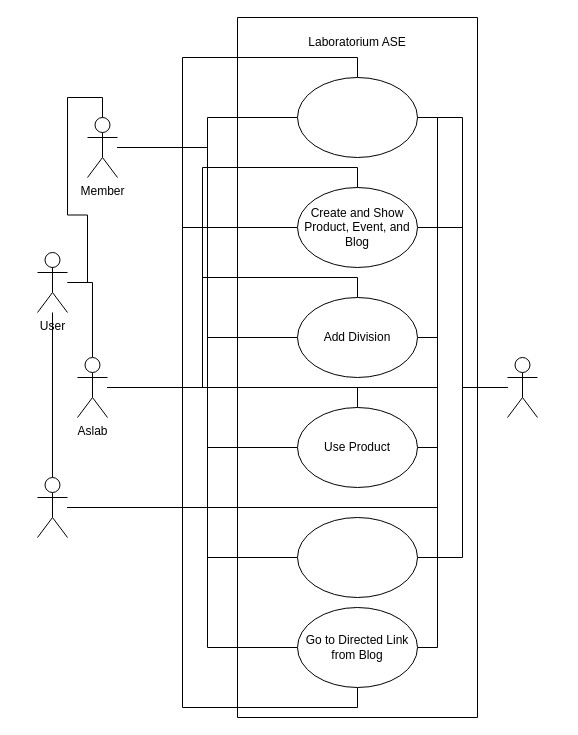
This 578x735 diagram has some shape labels left out. The box of each missing label's shape, as (x1, y1, x2, y2) in pixels:
<<Service>> Authentication: (506, 356, 538, 418)
Enter Event: (296, 516, 418, 598)
Pembina Lab: (36, 476, 68, 538)
Register and Log In: (296, 76, 418, 158)
